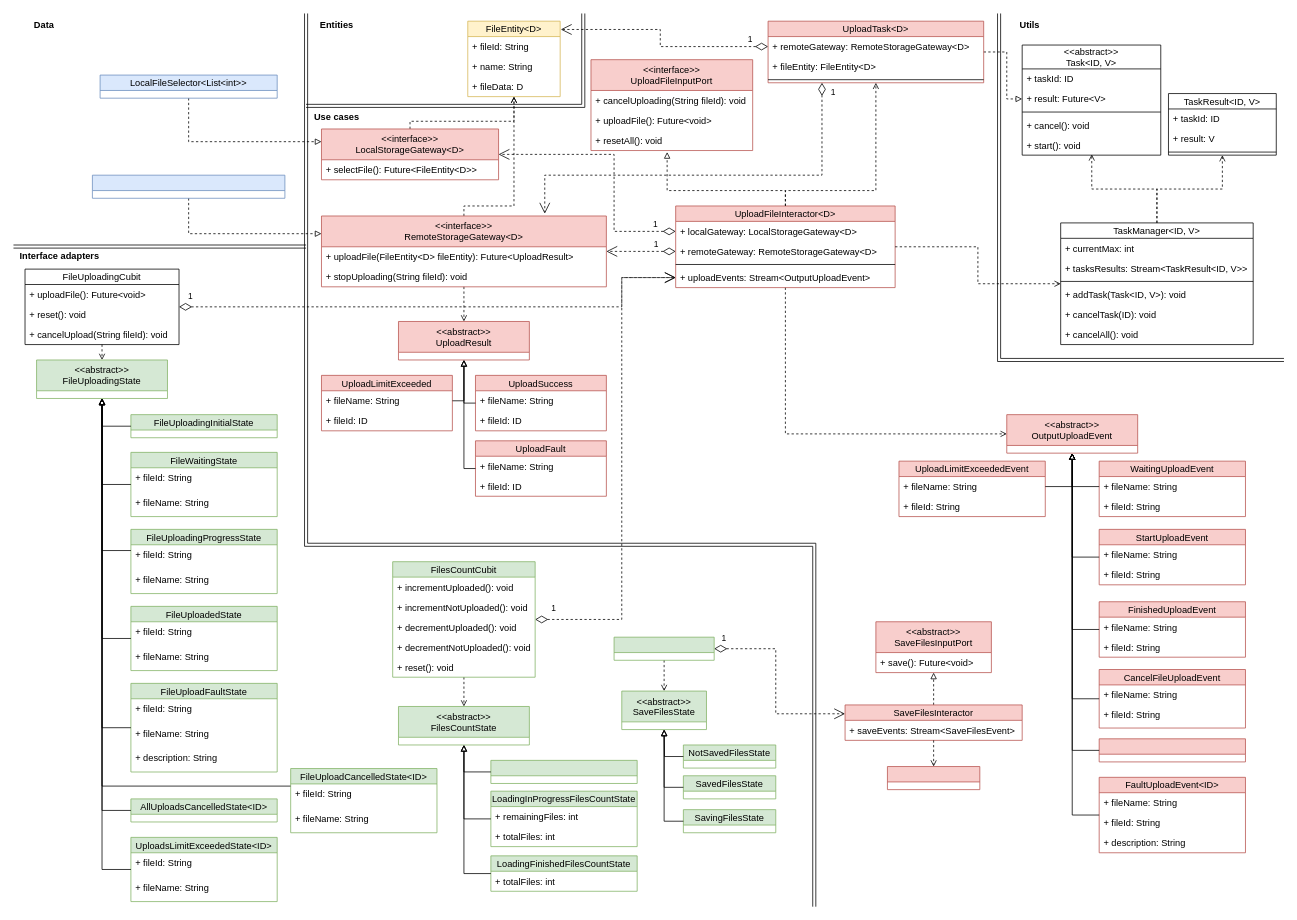
Some shapes in this 1297 by 920 pixel diagram are drawn without their labels. Here are the shapes that lost their labels. From the top down, the centre of each, then its label:
the point at 188,186: FilesRemoteStorage
the point at 663,648: SaveFilesCubit
the point at 1171,750: CancelAllUploadEvent
the point at 563,771: NoFilesCountState
the point at 933,778: SaveFilesEvent
